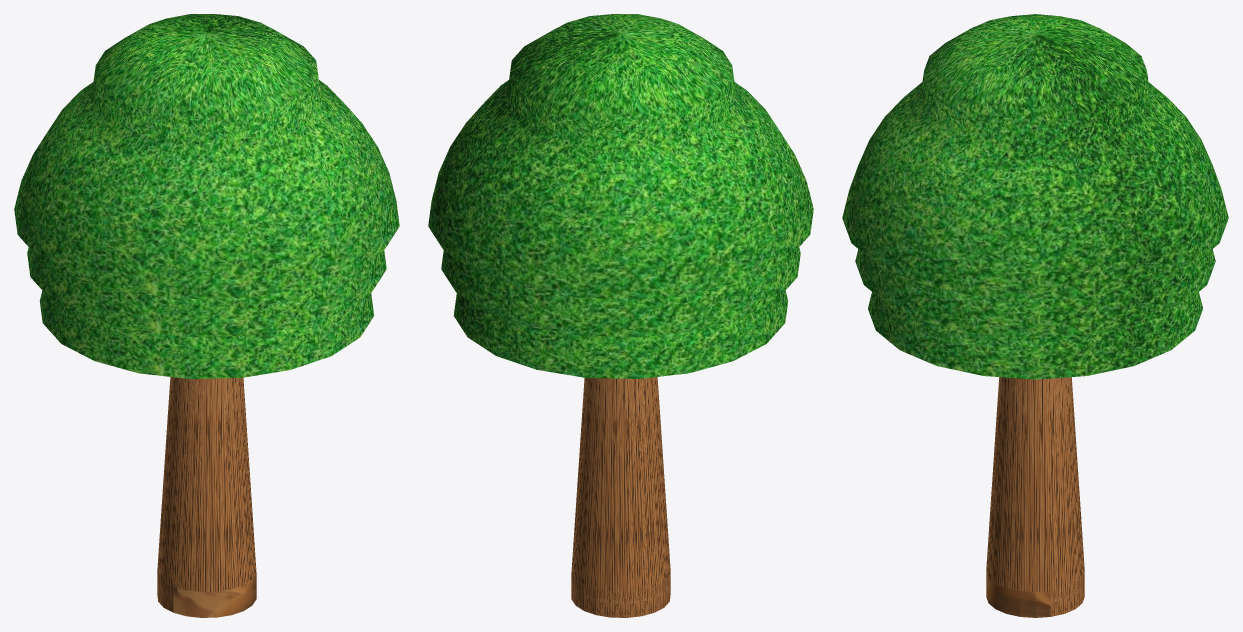
The model's file is Tree.fbx.
3 views of the same model, side by side, from view 1: azimuth 30°, elevation 25°; view 2: azimuth 150°, elevation 25°; view 3: azimuth 270°, elevation 25° (orthographic).
Parts seen in each view (by area): view 1: pSphere1, pCylinder1, pSphere3, pSphere2; view 2: pSphere1, pCylinder1, pSphere3, pSphere2; view 3: pSphere1, pCylinder1, pSphere3, pSphere2.
Boxes of the visible parts, bbox=[...] form: pSphere1: bbox=[14, 14, 399, 298]; pCylinder1: bbox=[157, 377, 256, 617]; pSphere3: bbox=[39, 291, 374, 378]; pSphere2: bbox=[27, 247, 386, 336]; pSphere1: bbox=[428, 14, 813, 298]; pCylinder1: bbox=[571, 377, 670, 617]; pSphere3: bbox=[453, 291, 788, 378]; pSphere2: bbox=[441, 247, 800, 336]; pSphere1: bbox=[842, 14, 1228, 299]; pCylinder1: bbox=[986, 377, 1084, 617]; pSphere3: bbox=[868, 292, 1202, 379]; pSphere2: bbox=[855, 249, 1215, 337].
Bounding box in the file's own units: 2.98 × 4.79 × 2.98.
3 materials, 2 textured.
